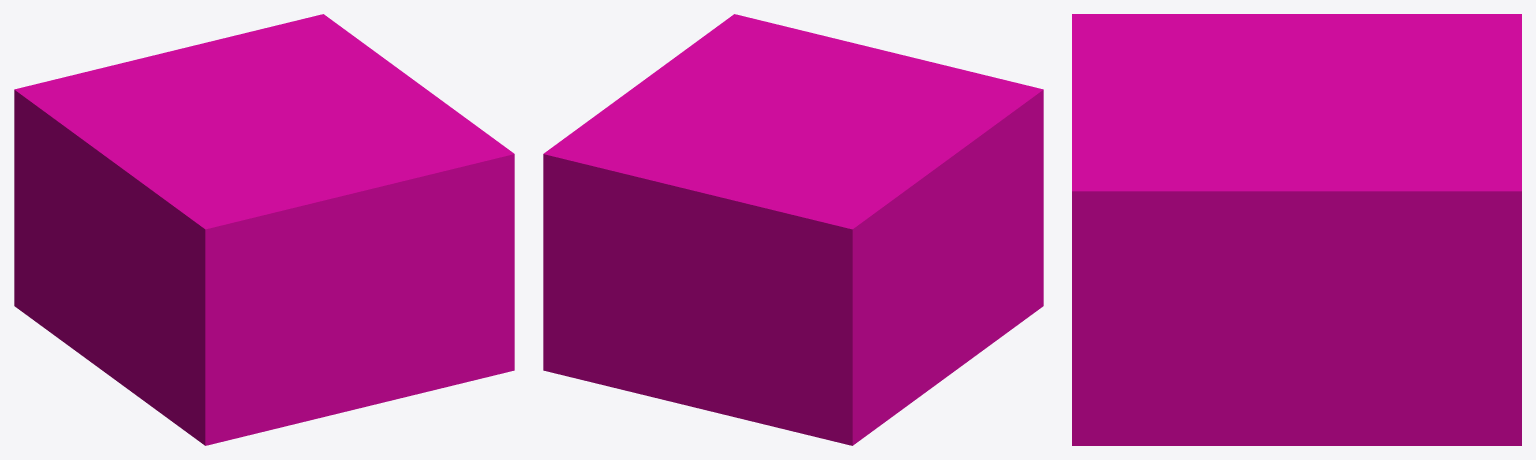
The model's file is Caja 4.fbx.
The picture shows the model from 3 angles, left to right: view 1: azimuth 30°, elevation 25°; view 2: azimuth 150°, elevation 25°; view 3: azimuth 270°, elevation 25°; orthographic projection. The views are drawn at different scales.
Visible parts, largest first — view 1: Caja_4; view 2: Caja_4; view 3: Caja_4.
Part boxes in pixels (x1=…): Caja_4: x1=14, y1=14, x2=514, y2=445; Caja_4: x1=543, y1=14, x2=1043, y2=445; Caja_4: x1=1072, y1=14, x2=1521, y2=445.
Size of the model in its own units: 35.52 by 23.75 by 38.04.
